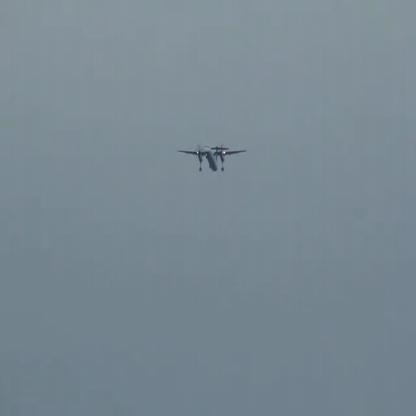CIV_Plane: (174, 138, 246, 173)
